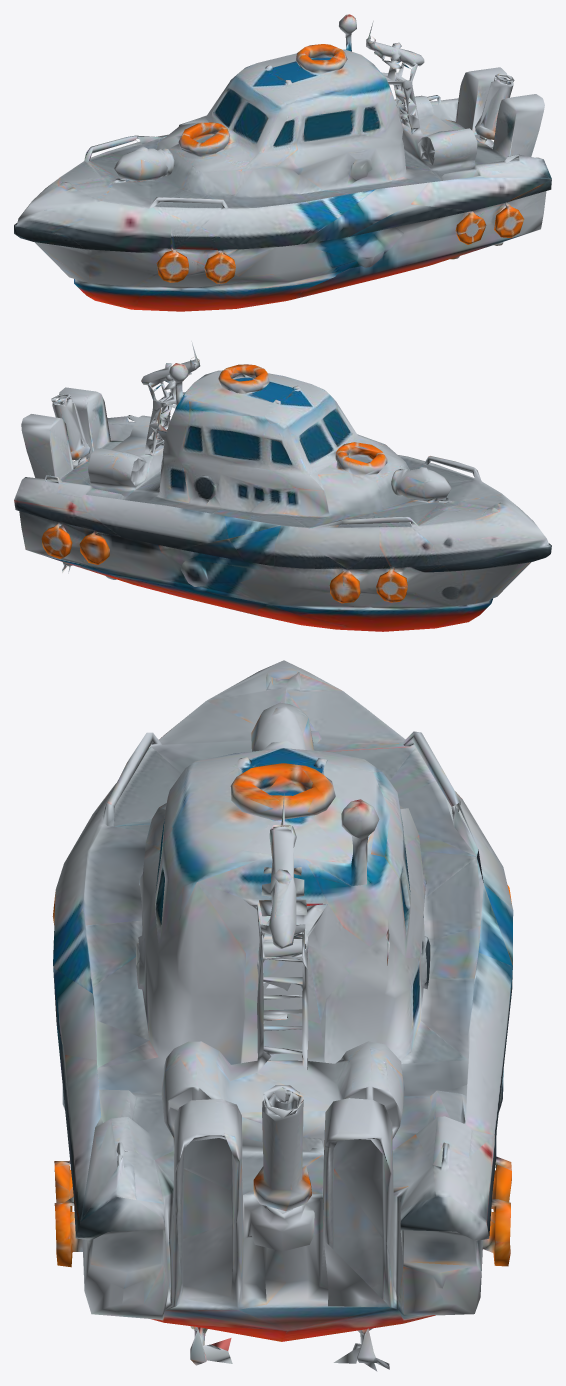
Rendered from boat-patrol-512.glb.
3 renders of one model, top to bottom at view 1: azimuth 30°, elevation 25°; view 2: azimuth 150°, elevation 25°; view 3: azimuth 270°, elevation 25°, orthographic. The views are drawn at different scales.
Size of the model in its own units: 1.9 by 0.8826 by 0.746.
1 material, 1 textured.
